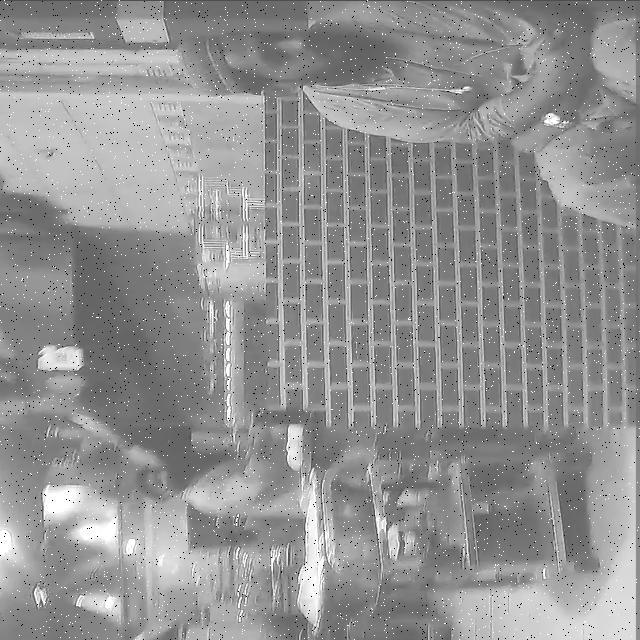face_no_mask: (219, 26, 371, 102)
